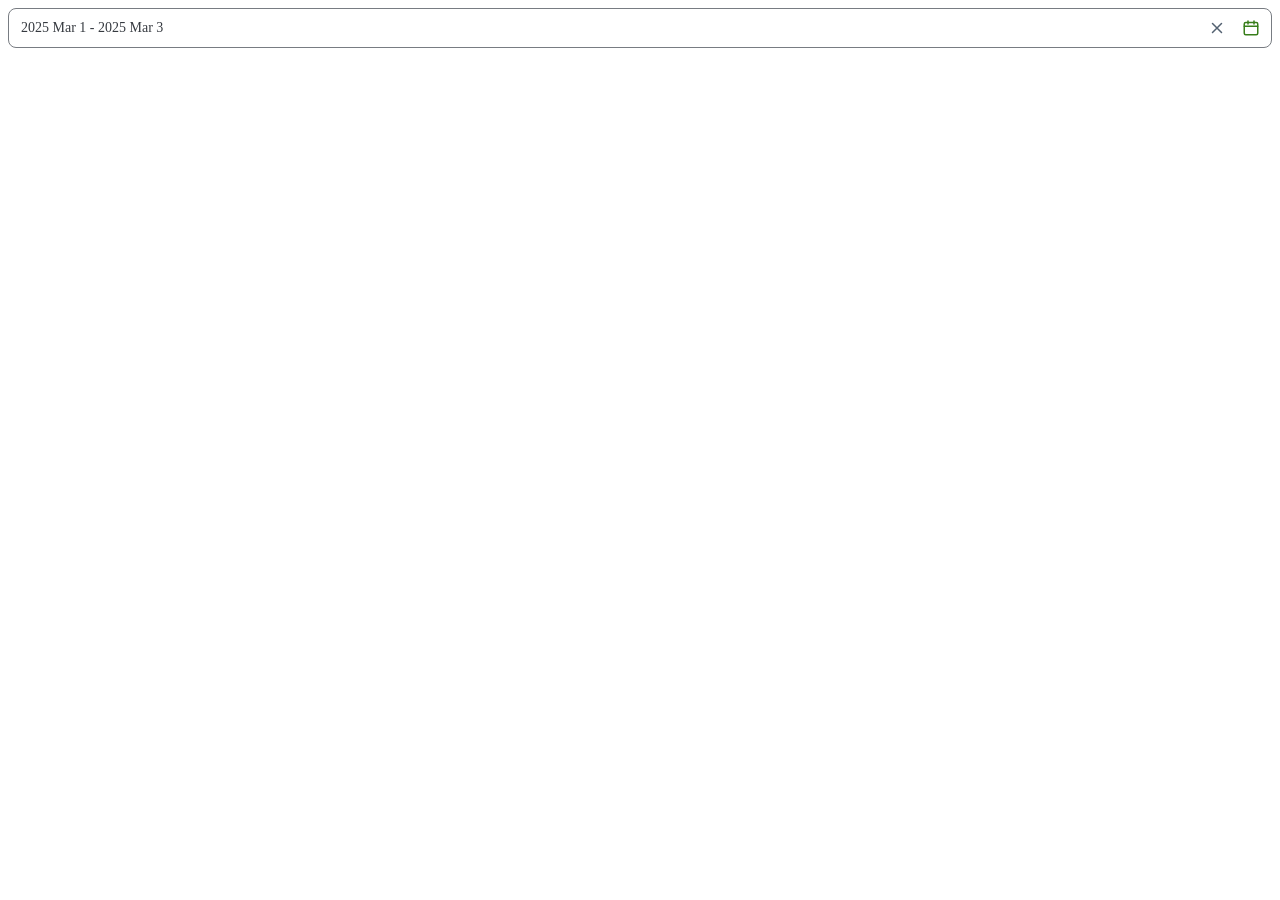
it: DateRangePicker › Cancel and outside clicks discard the draft
Click the field named "Period" at point(604, 28), box [9,9,1199,47]
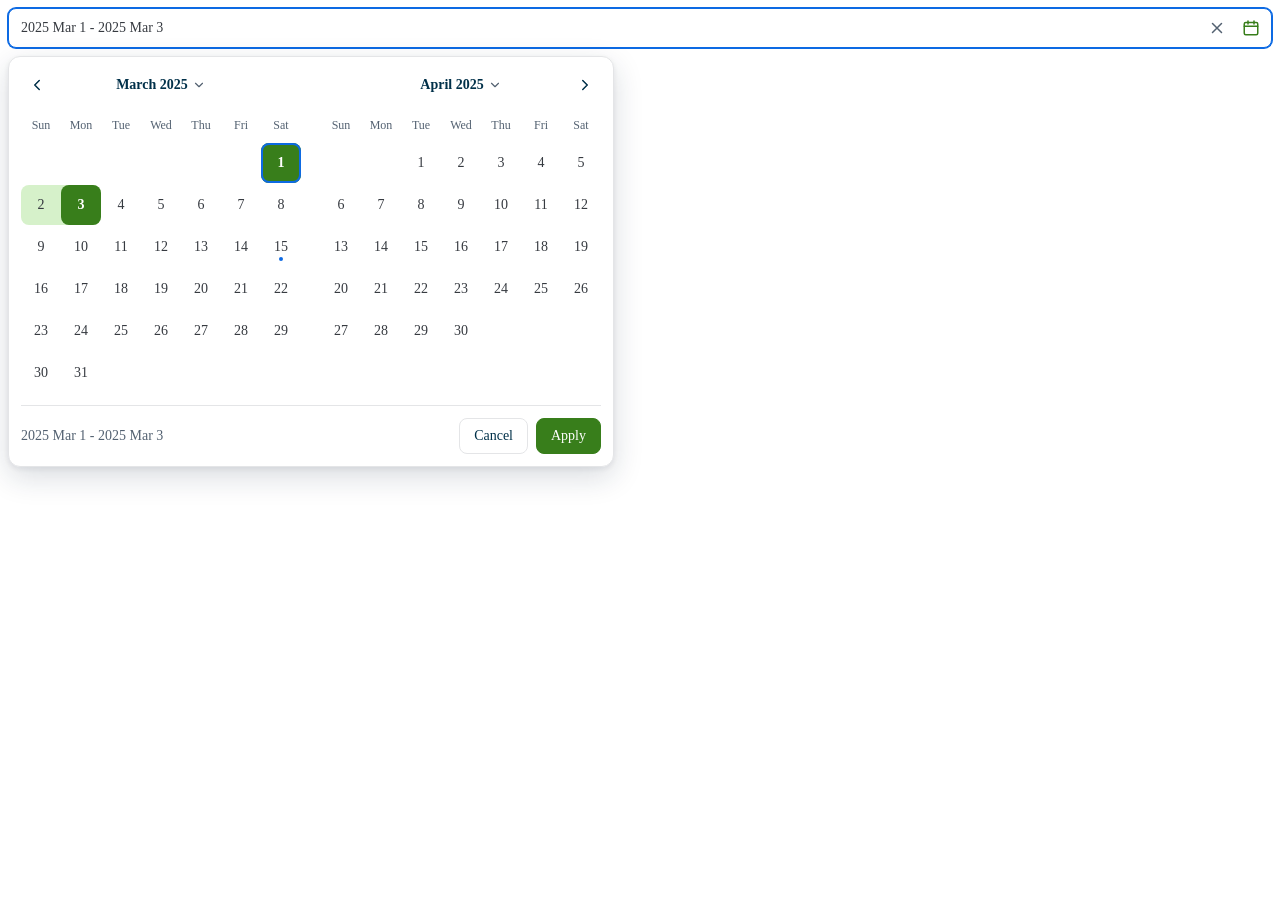
Click the button named "Monday, March 10, 2025" at point(81, 247), box [61,227,101,267]
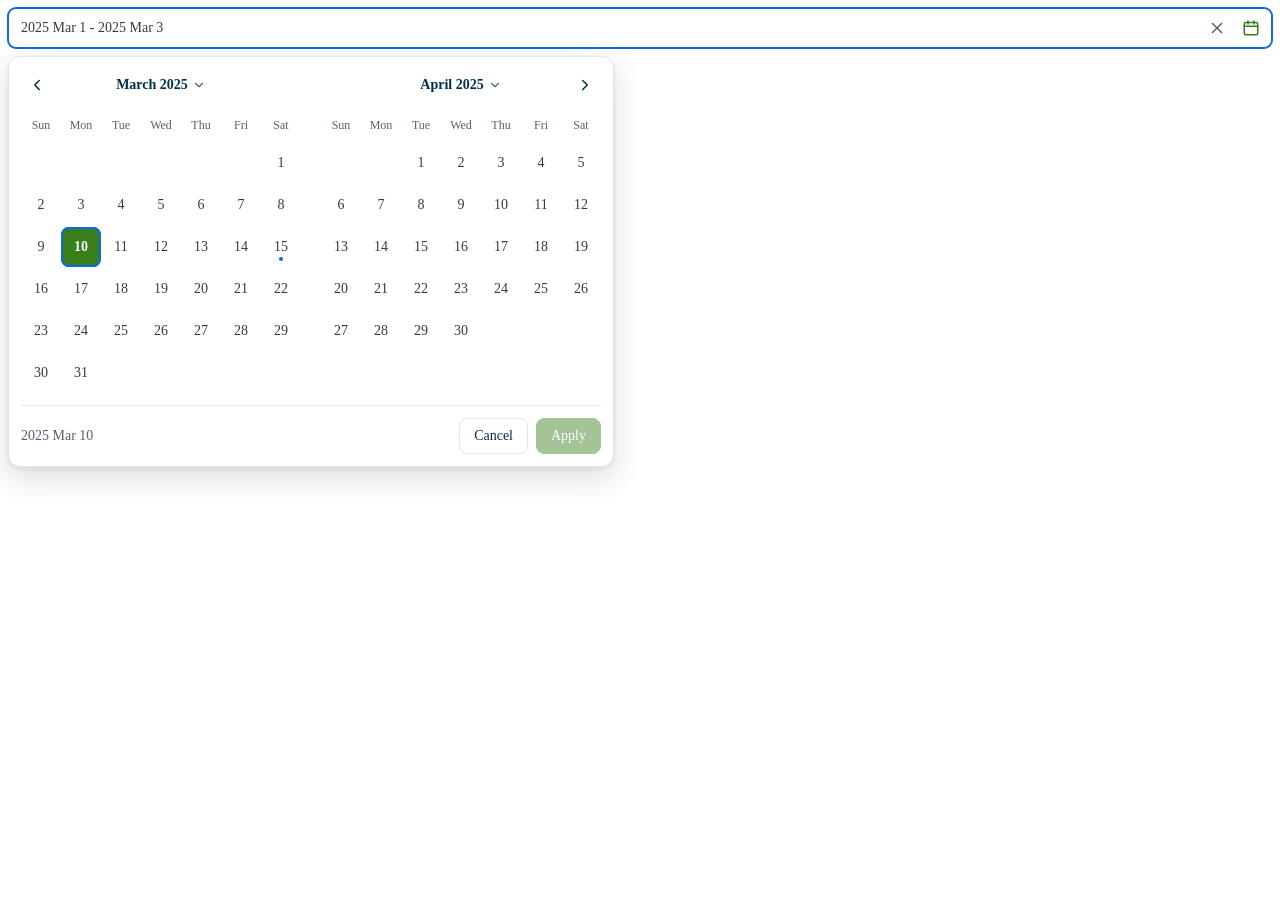
Click the button "Cancel" at point(494, 436), box [459,418,528,454]
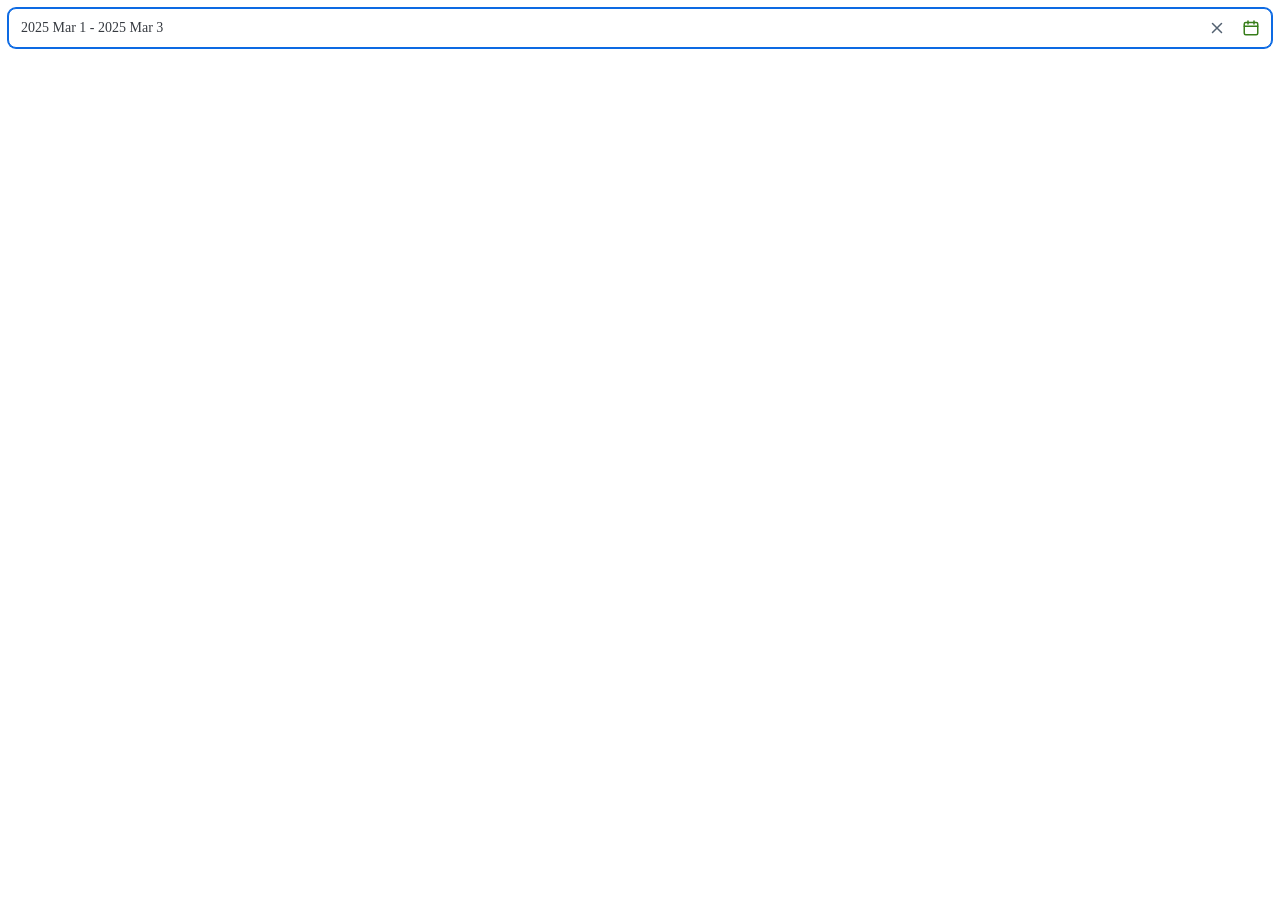
Click the field named "Period" at point(604, 28), box [9,9,1199,47]
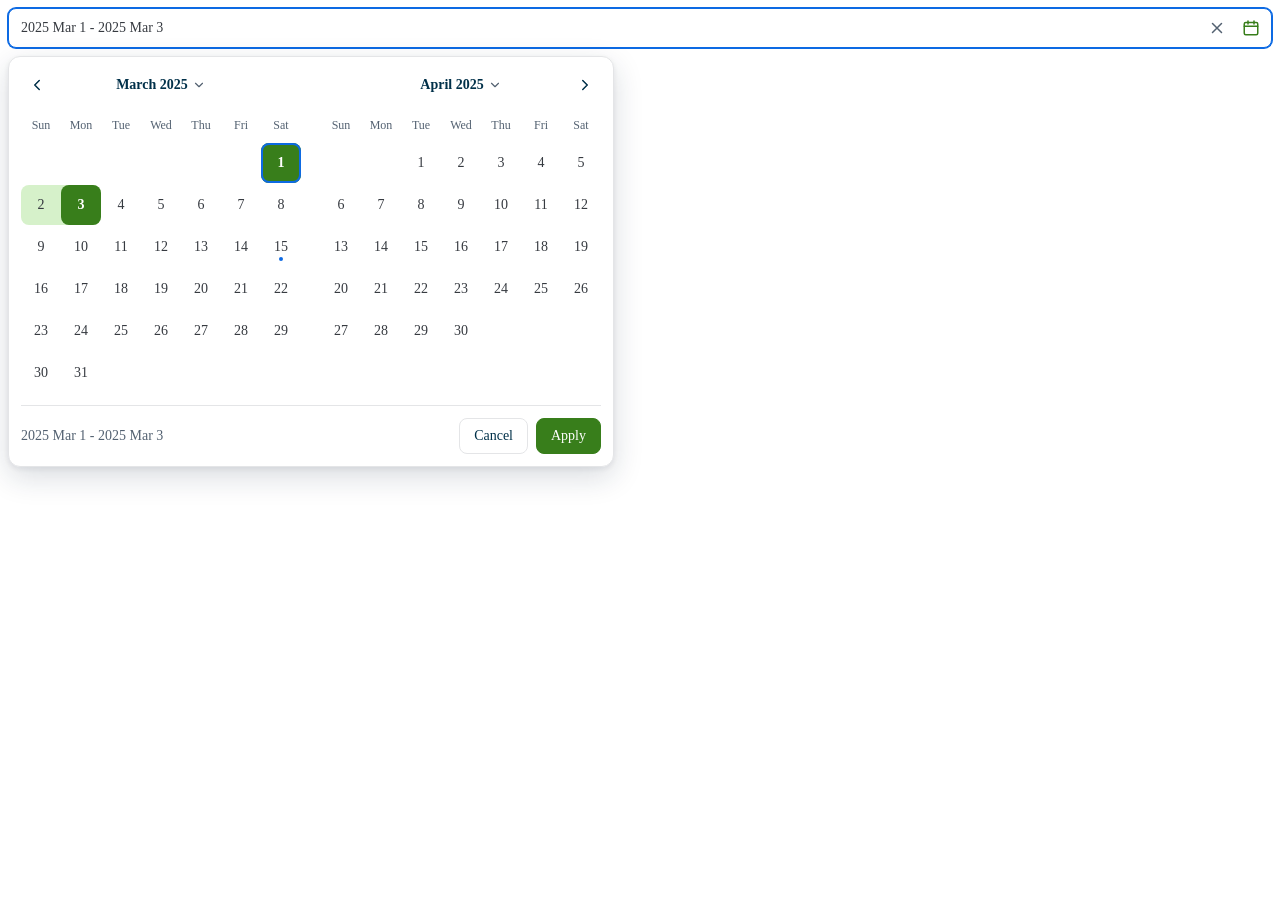
Expected: the button named "Sunday, March 2, 2025" has attribute data-in-range, [21,185,61,225]
